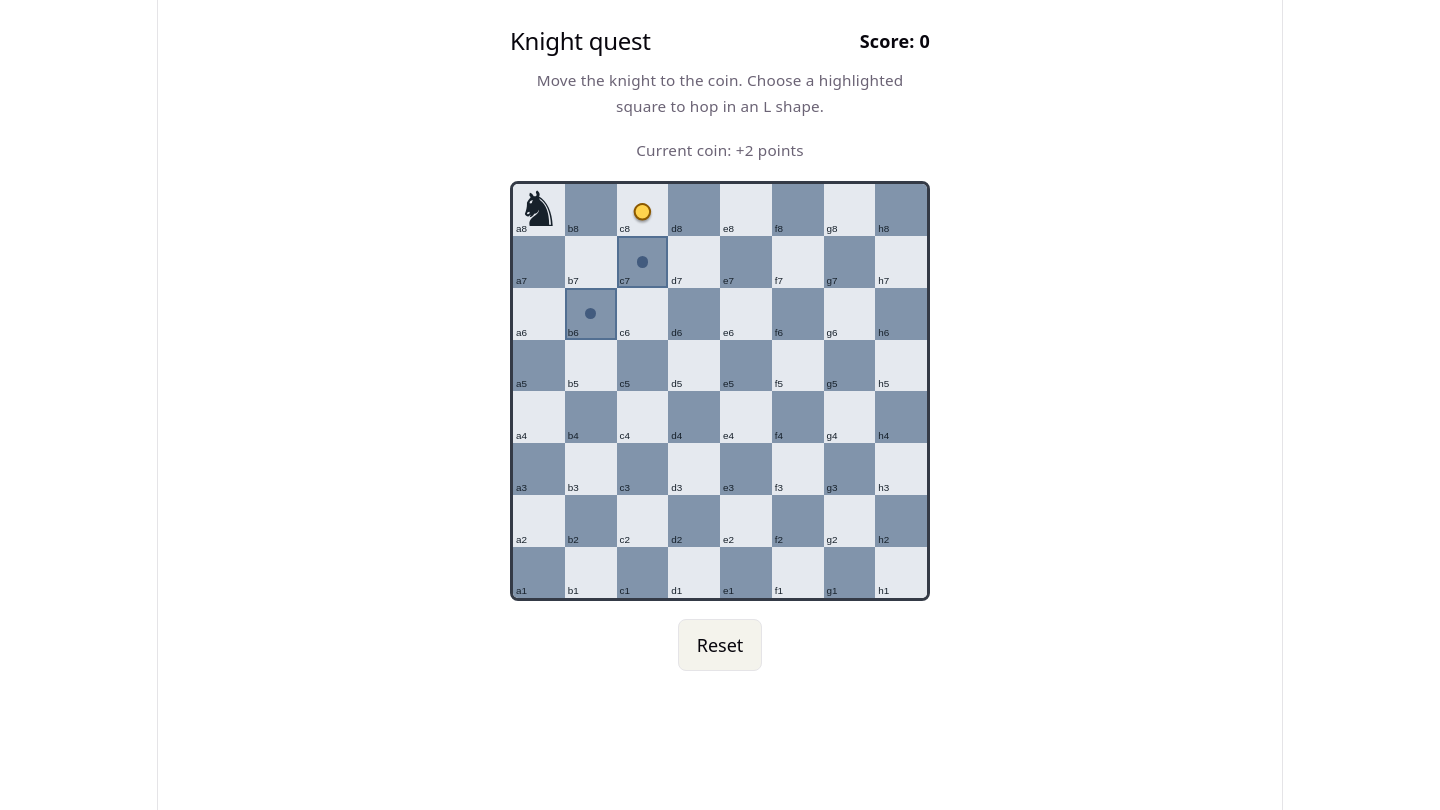
Test: extra moves lower the displayed reward and collection never awards less than one
Check: the message named "Current coin value" reads "Current coin: +2 points", box [636,140,804,160]
Step 1. Click the button named "c7, legal destination" → (642,262), box [616,236,668,288]
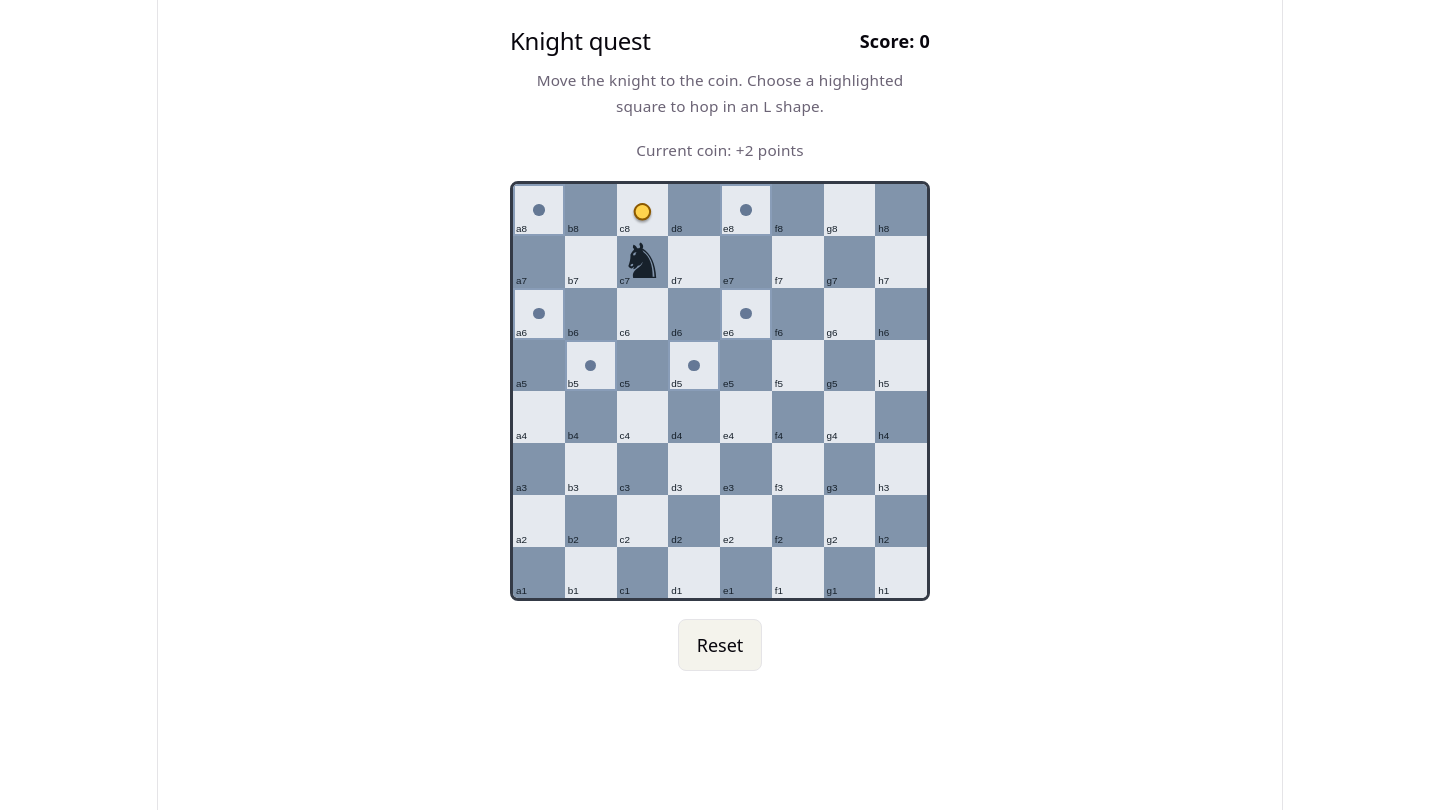
Step 2. Click the button named "a8, legal destination" → (539,210), box [513,184,565,236]
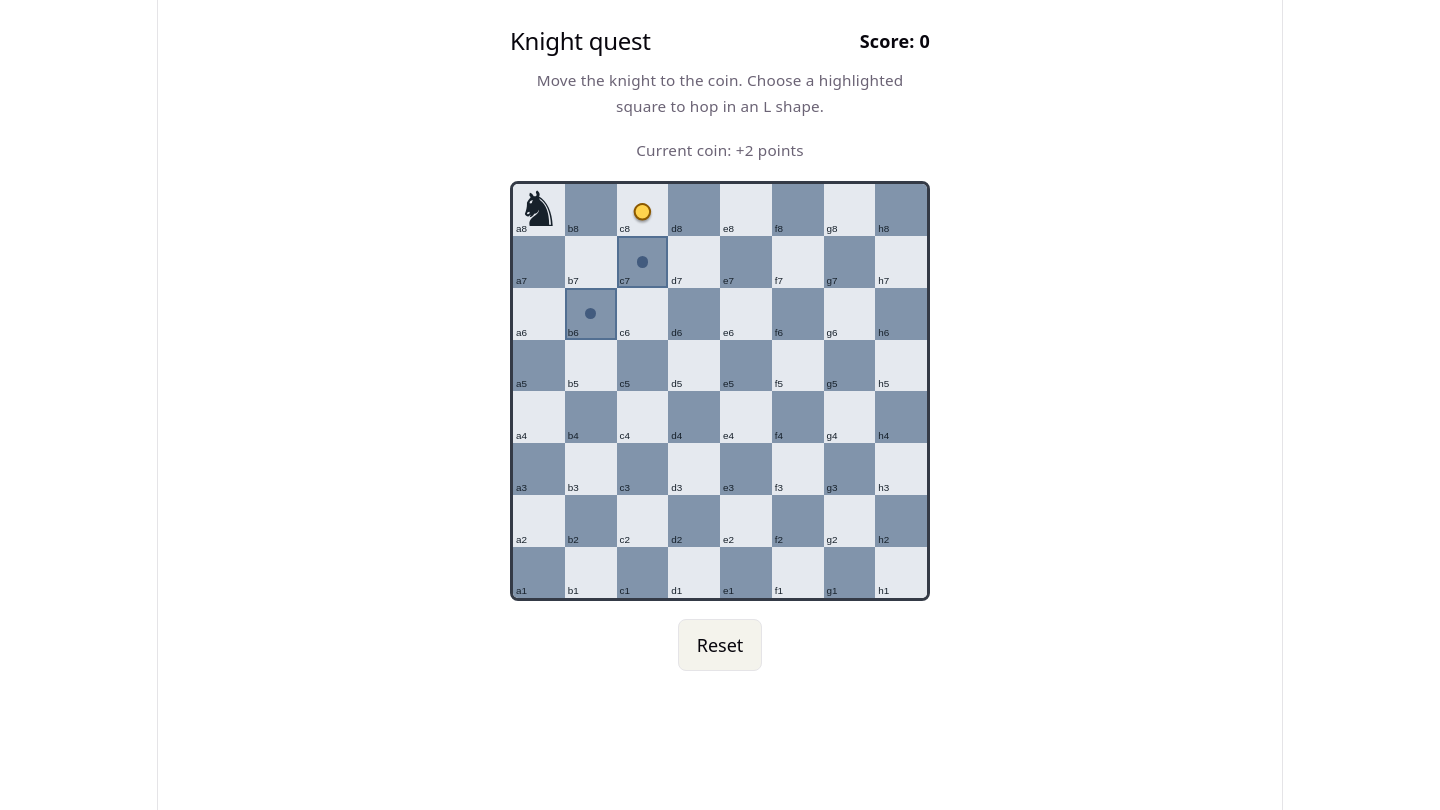
Step 3. Click the button named "c7, legal destination" → (642,262), box [616,236,668,288]
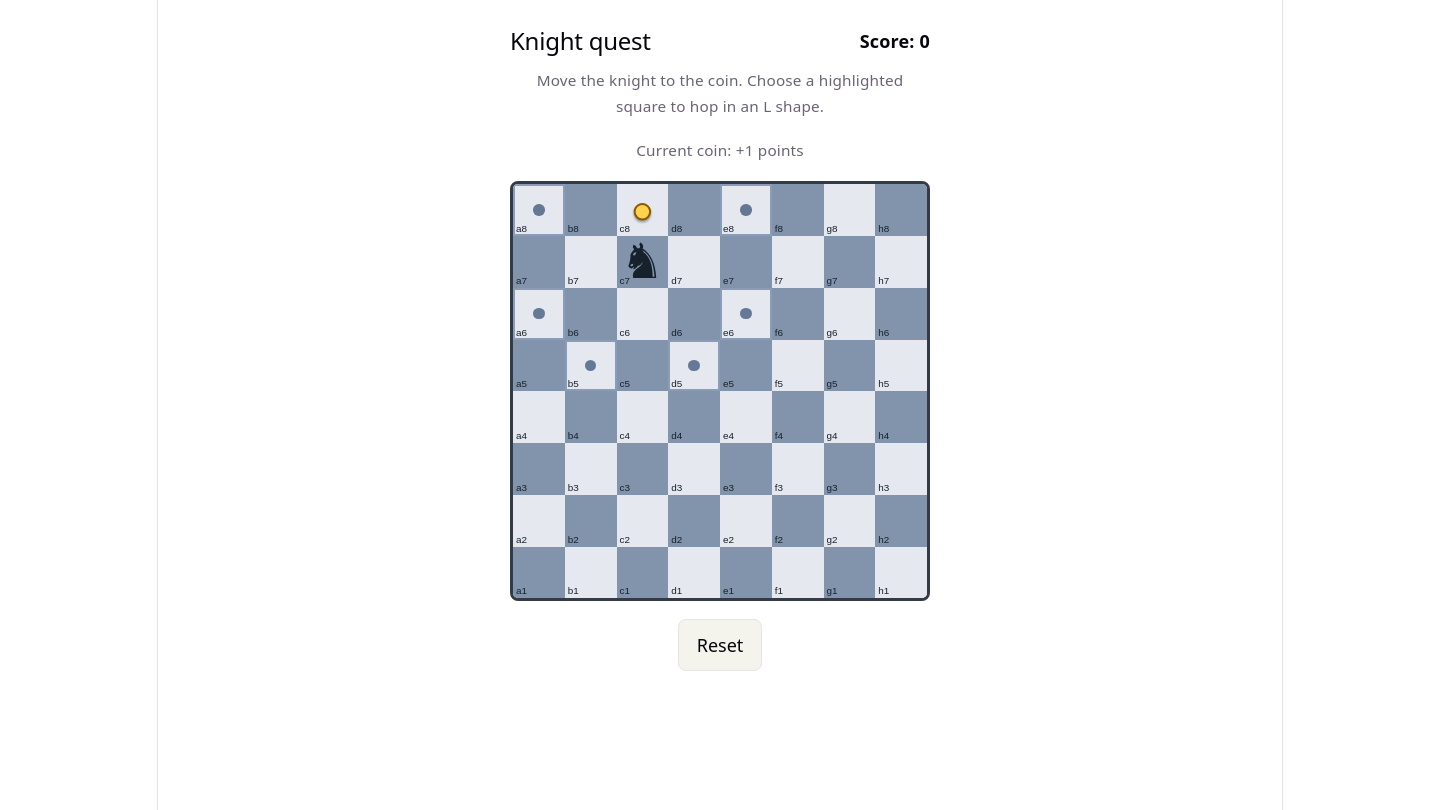
Step 4. Click the button named "a8, legal destination" → (539,210), box [513,184,565,236]
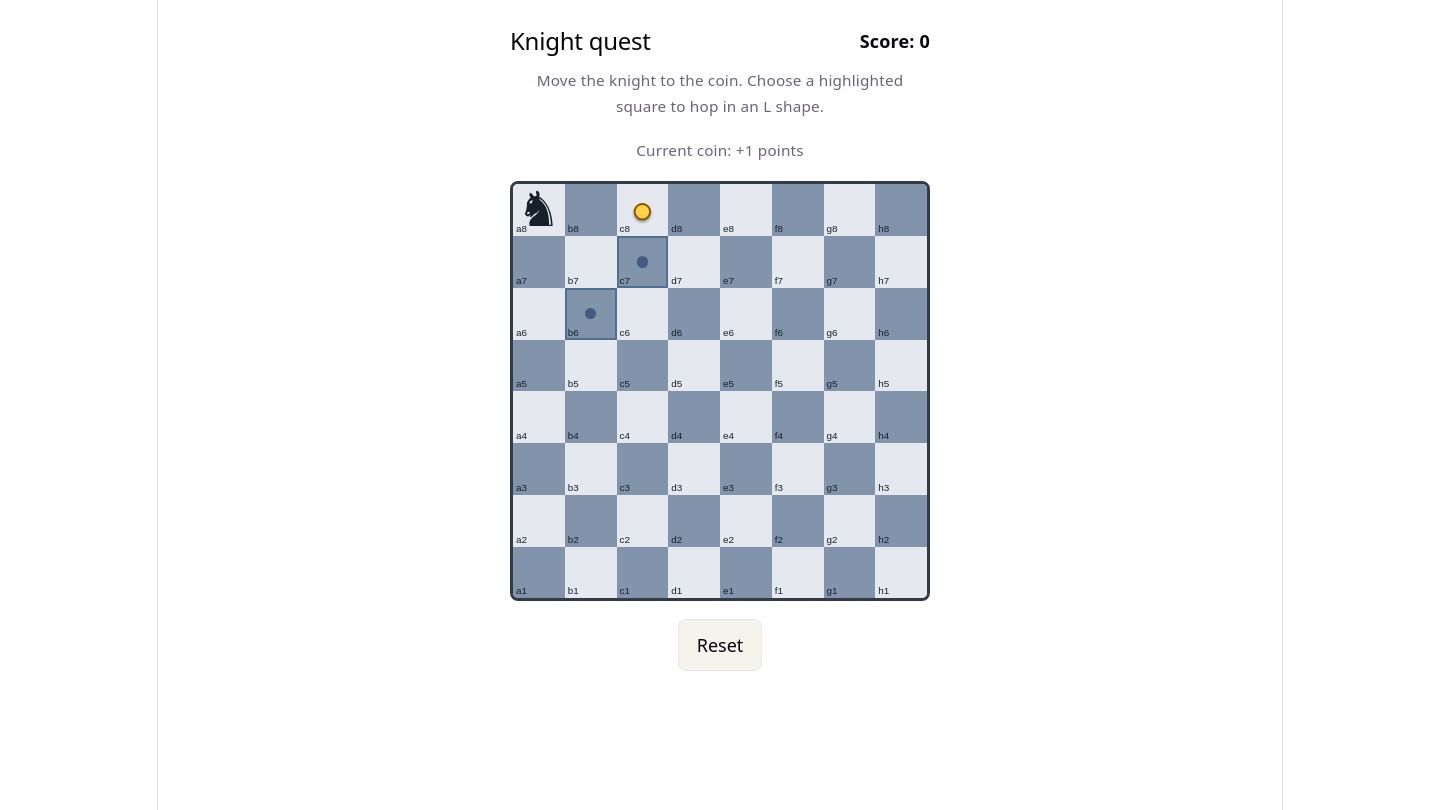
Check: the message named "Current coin value" reads "Current coin: +1 points", box [636,140,804,160]
Step 5. Click the button "b6" → (591,314), box [565,288,617,340]
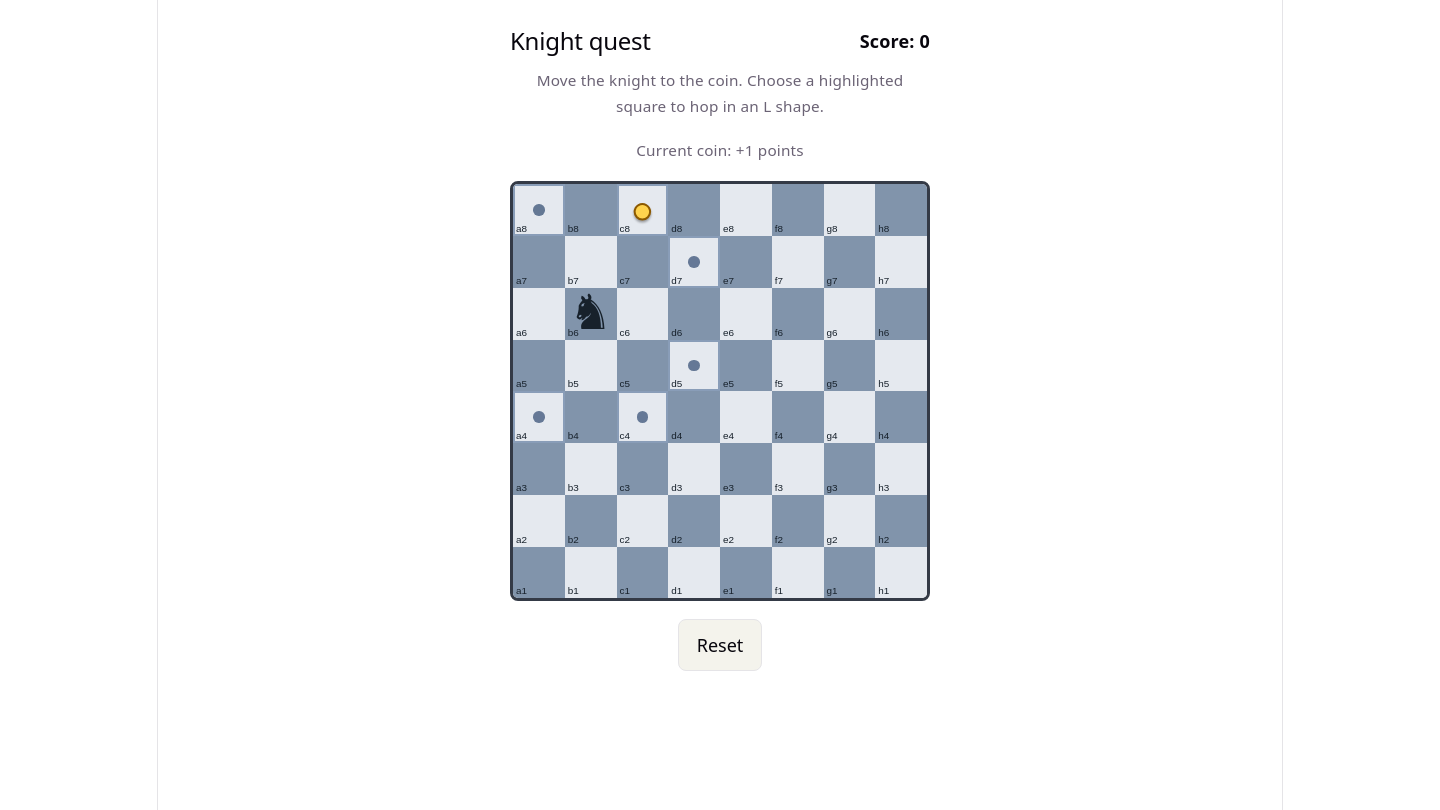
Step 6. Click the button "● c8" → (642,210), box [616,184,668,236]
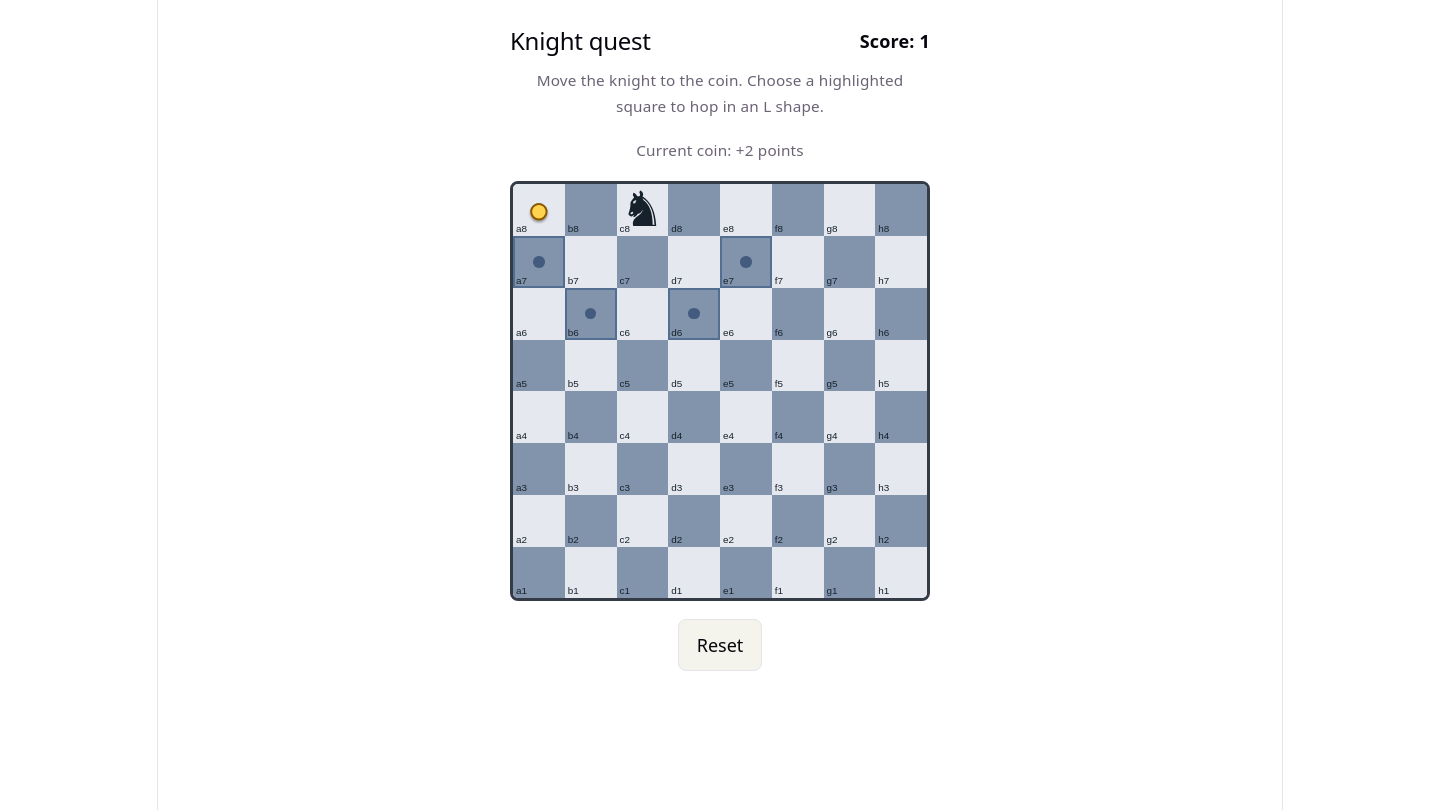
Check: the message labelled "Score" reads "Score: 1", box [860,28,930,54]
